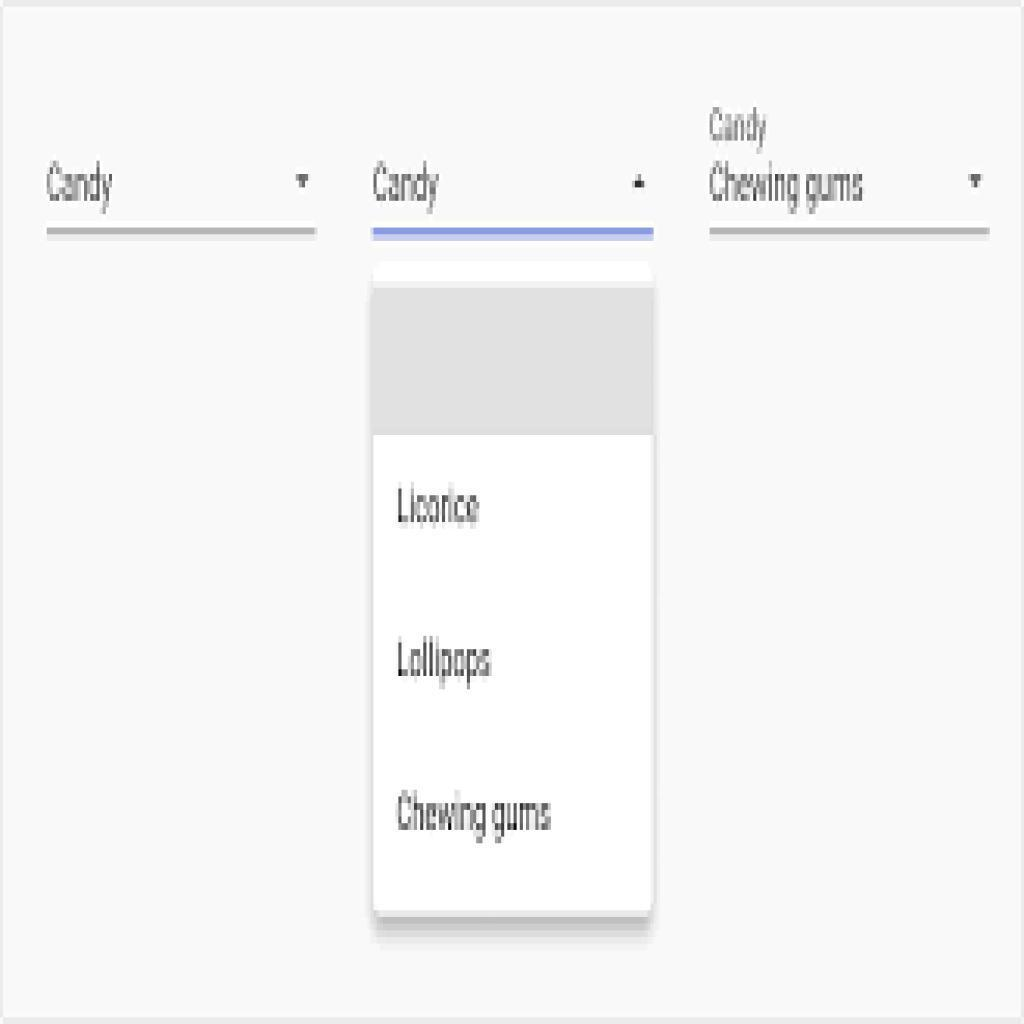dropdown: (46, 125, 316, 235), (371, 134, 660, 230), (708, 144, 992, 236)
